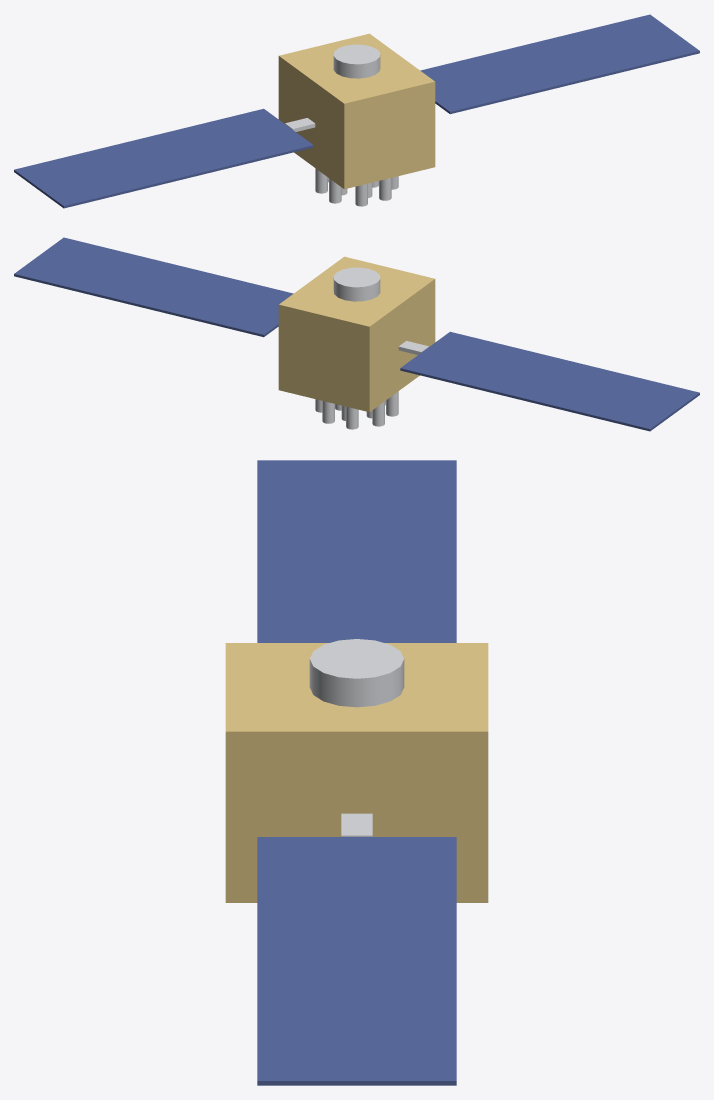
Rendered from gnss_bus.glb.
3 renders of one model, top to bottom at view 1: azimuth 30°, elevation 25°; view 2: azimuth 150°, elevation 25°; view 3: azimuth 270°, elevation 25°, orthographic. The views are drawn at different scales.
Visible parts, largest first — view 1: gnss_bus; view 2: gnss_bus; view 3: gnss_bus.
Boxes of the visible parts, left/top/right/bottom form: gnss_bus: left=14, top=14, right=699, bottom=208; gnss_bus: left=14, top=237, right=699, bottom=431; gnss_bus: left=225, top=460, right=488, bottom=1085.
Bounding box in the file's own units: 14 × 2.83 × 2.5.
